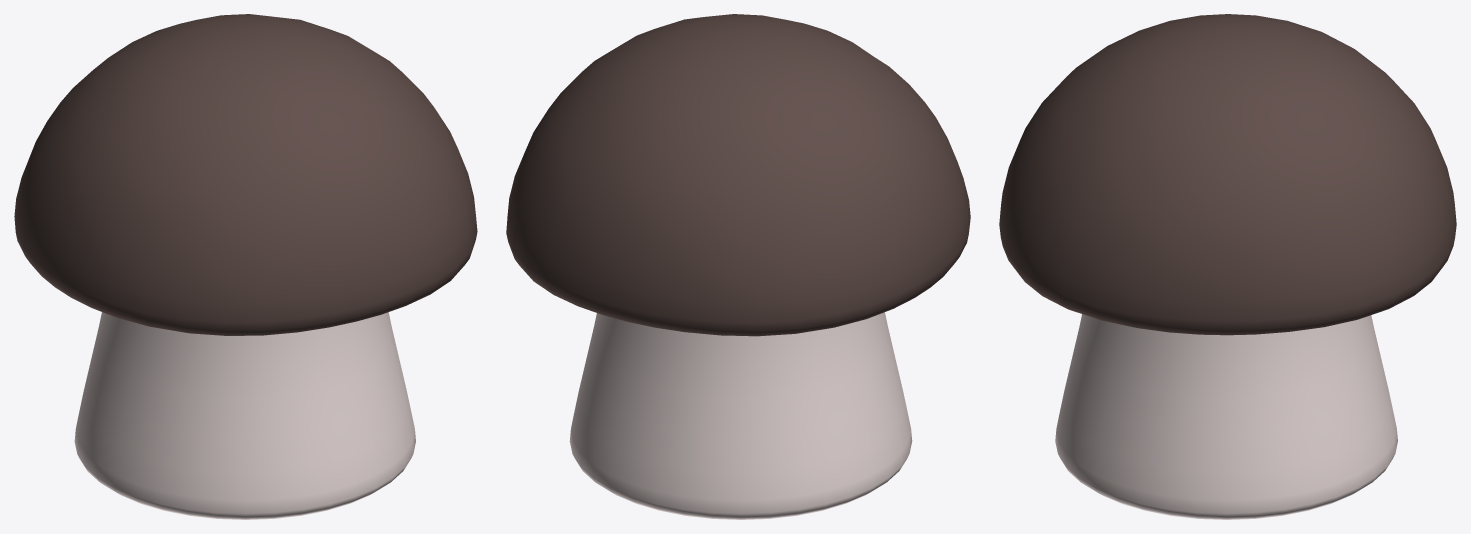
The model's file is mushroom.glb.
3 views of the same model, side by side, from view 1: azimuth 30°, elevation 25°; view 2: azimuth 150°, elevation 25°; view 3: azimuth 270°, elevation 25° (orthographic).
Visible parts, largest first — view 1: icons8_mushroom_2; view 2: icons8_mushroom_2; view 3: icons8_mushroom_2.
Boxes of the visible parts, x1,y1,x2,y2 form: icons8_mushroom_2: [14, 14, 477, 519]; icons8_mushroom_2: [506, 14, 970, 519]; icons8_mushroom_2: [999, 14, 1456, 519].
Bounding box in the file's own units: 1.47 × 1.47 × 1.47.
1 material, 1 textured.
